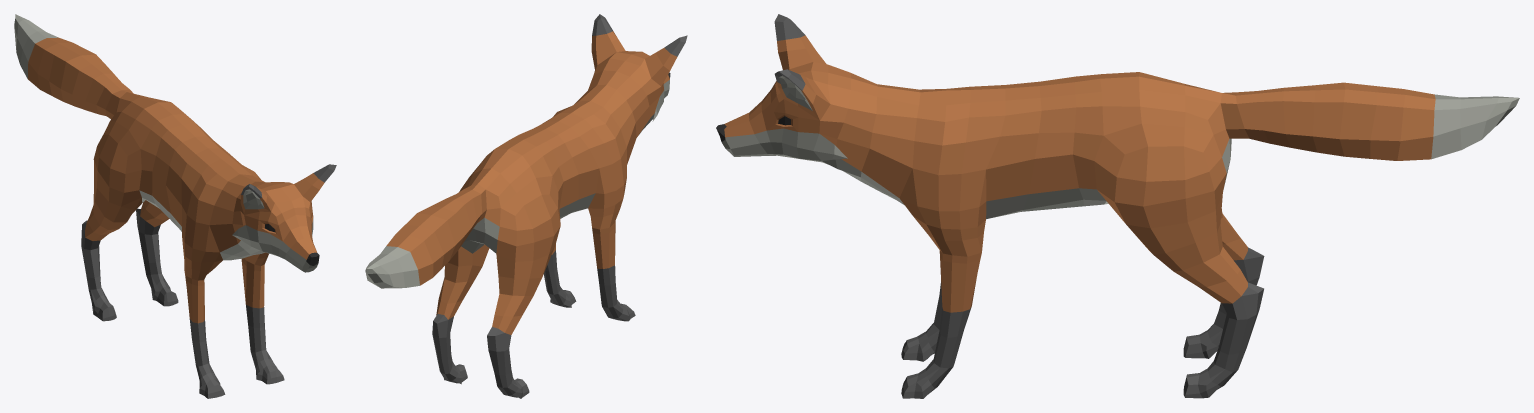
File: fox.glb
The picture shows the model from 3 angles, left to right: view 1: azimuth 30°, elevation 25°; view 2: azimuth 150°, elevation 25°; view 3: azimuth 270°, elevation 25°; orthographic projection. The views are drawn at different scales.
Visible parts, largest first — view 1: Fox; view 2: Fox; view 3: Fox.
Boxes of the visible parts, bbox=[...] form: Fox: bbox=[14, 14, 336, 398]; Fox: bbox=[365, 14, 687, 398]; Fox: bbox=[716, 14, 1519, 398].
Bounding box in the file's own units: 1.06 × 2.68 × 5.88.
